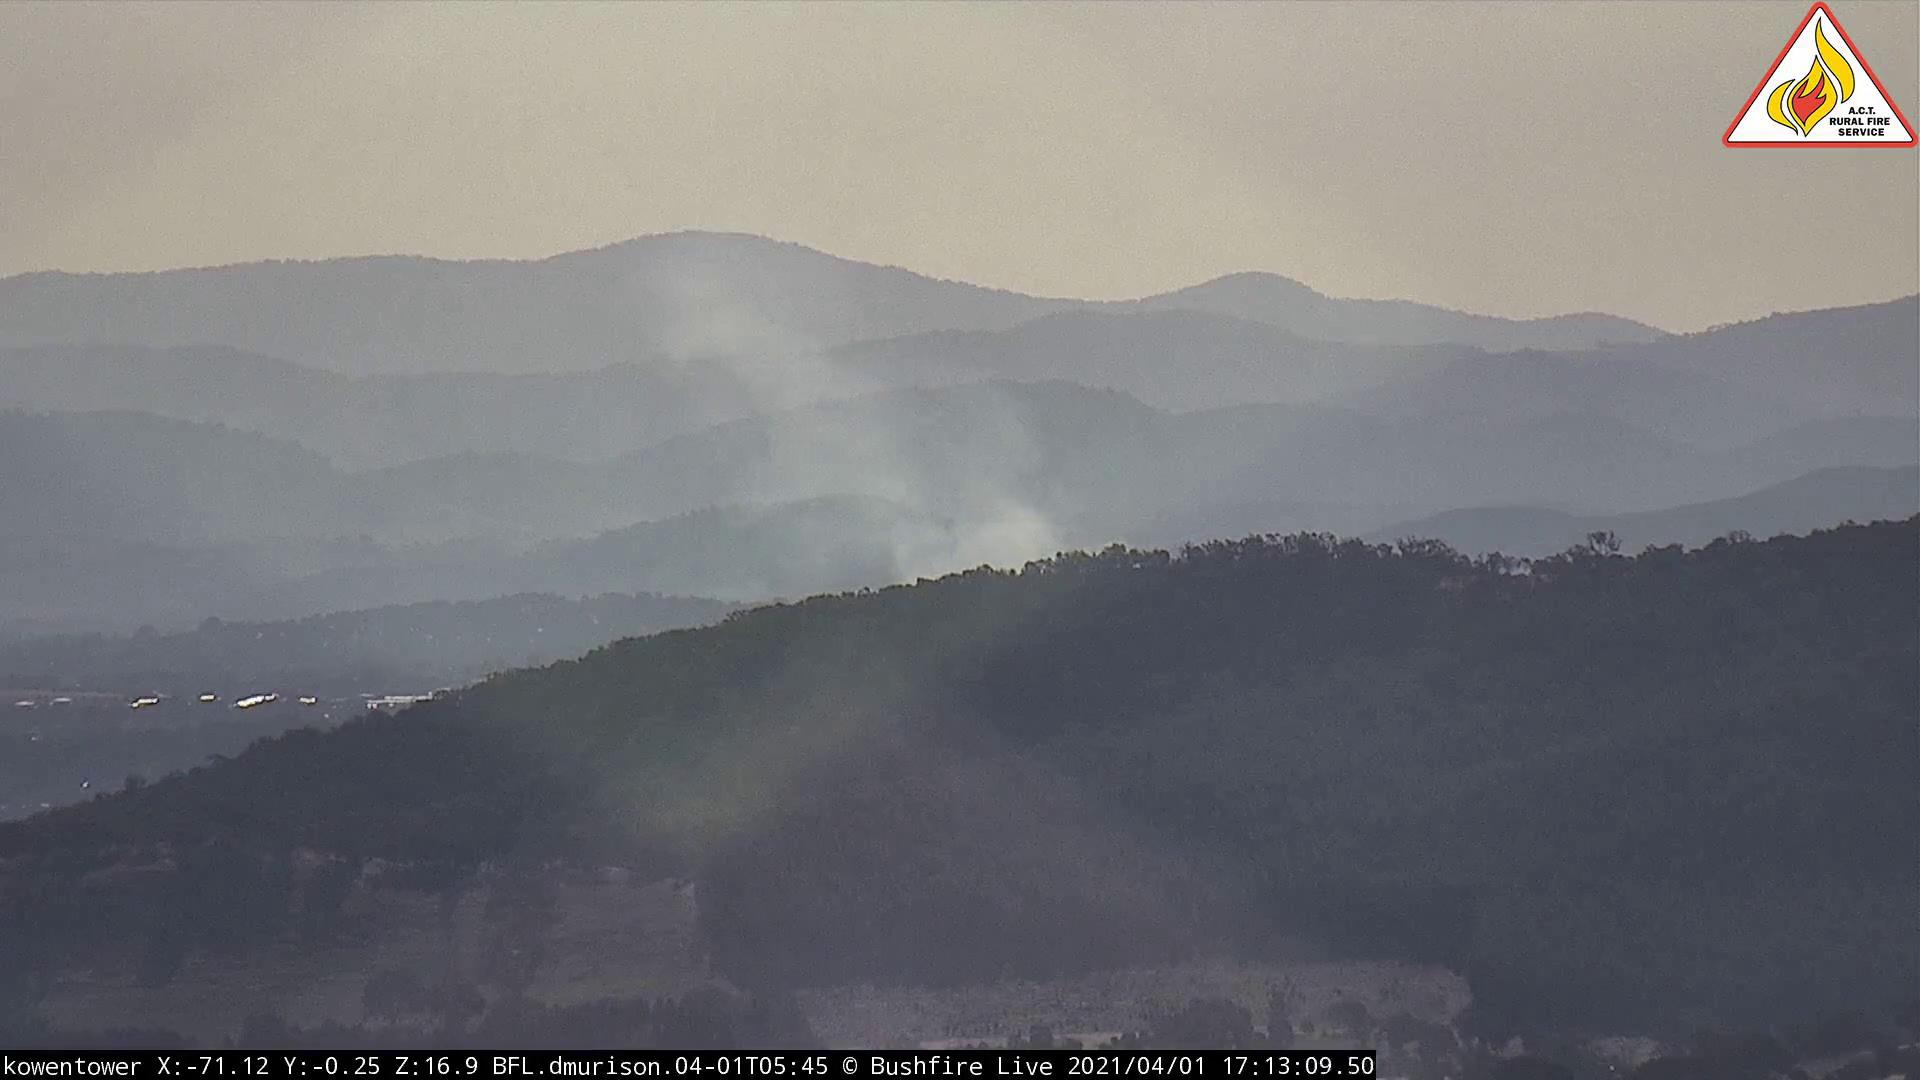Smoke: (644, 239, 1102, 629)
